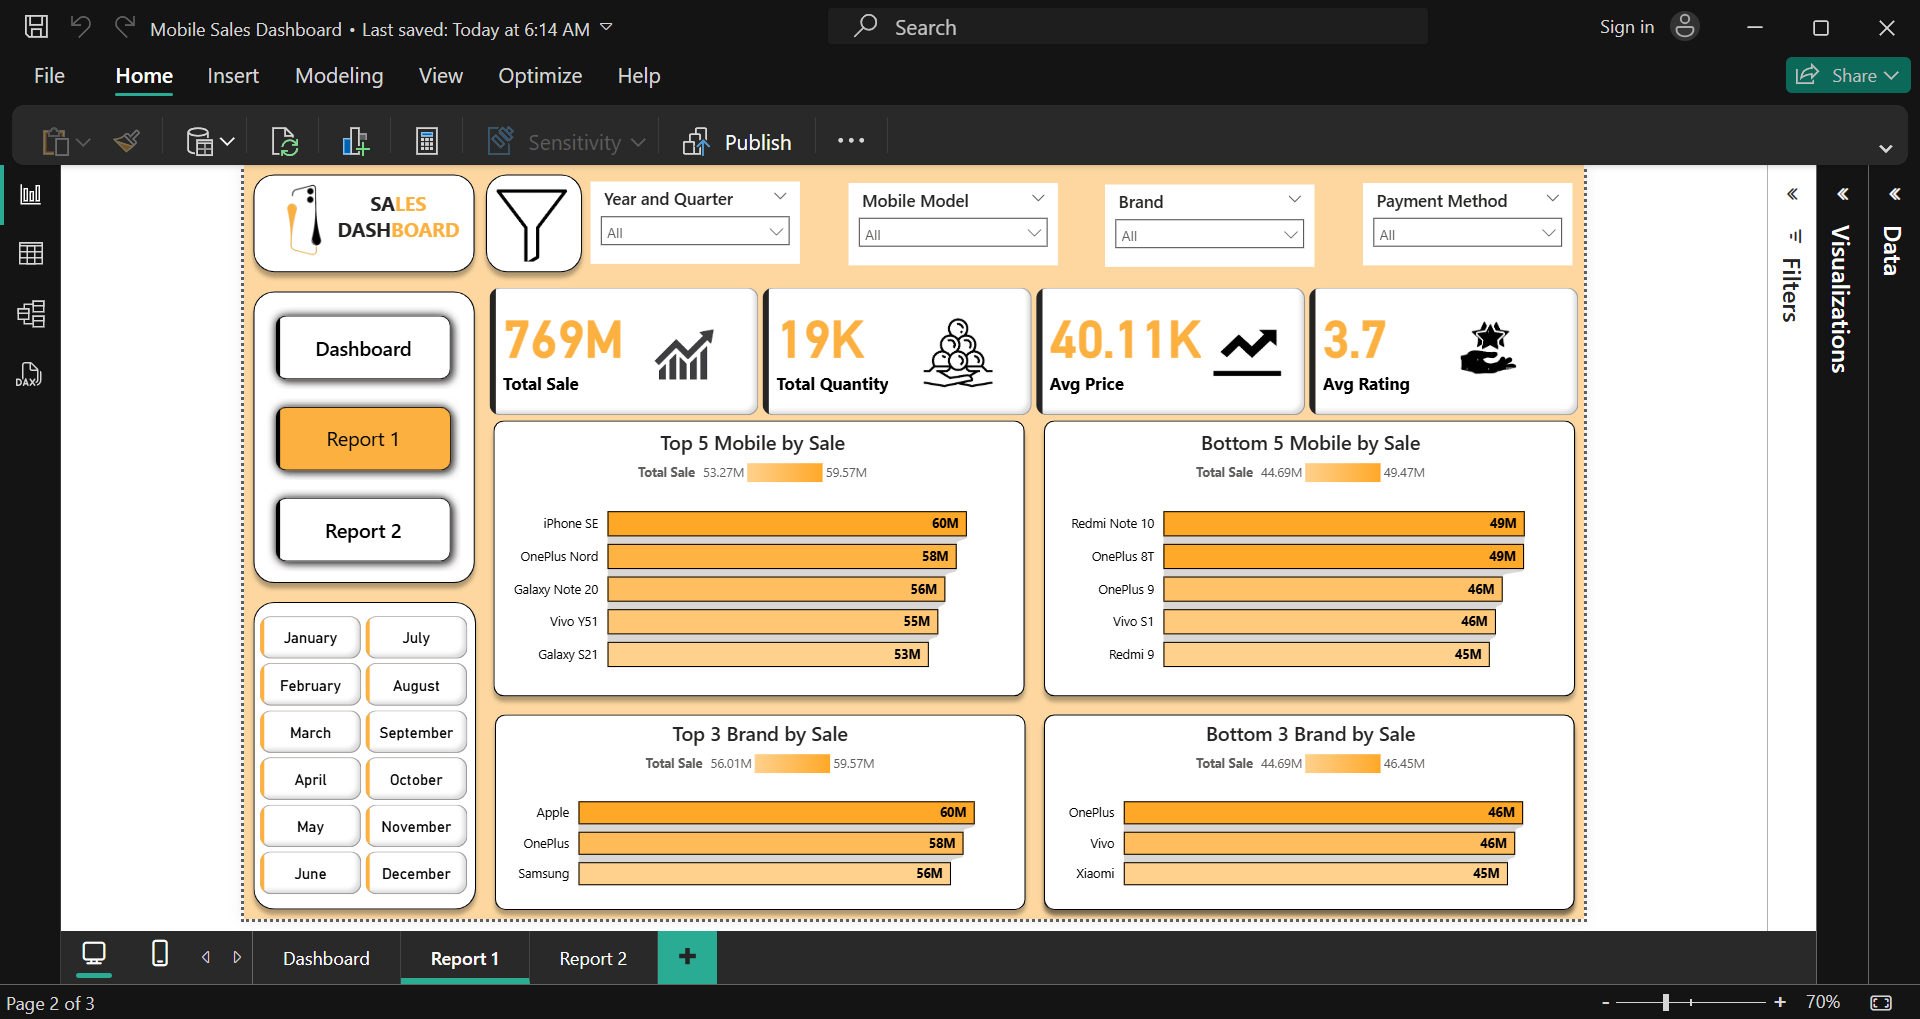

Layout of this report page (visuals, bound fields, positions):
{"tool":"powerbi","page":{"name":"Report 1","canvas":[1280,720],"ordinal":1},"visuals":[{"type":"shape","box":[0,0,229.5,111.5],"z":0},{"type":"slicer","fields":{"Values":["Sales Data.Mobile Model"]},"box":[577,18,200,78.7],"z":0,"group":"g1"},{"type":"slicer","fields":{"Values":["Sales Data.Brand"]},"box":[822.9,19.7,200,78.7],"z":1000,"group":"g1"},{"type":"shape","box":[229.3,234.2,525.4,281.4],"z":1000},{"type":"slicer","fields":{"Values":["Sales Data.Payment Method"]},"box":[1068.8,18,200,78.7],"z":2000,"group":"g1"},{"type":"shape","box":[0,111.5,229.5,296.7],"z":2000},{"type":"slicer","fields":{"Values":["Custom Calendar.Date.Variation.Date Hierarchy.Year","Custom Calendar.Date.Variation.Date Hierarchy.Quarter"]},"box":[331.1,16.4,200,78.7],"z":3000,"group":"g1"},{"type":"cardVisual","fields":{"Data":["Sales Data.Total Sale","Sales Data.Total Quantity","Sales Data.Avg Price","Sales Data.Avg Rating"]},"box":[229.5,111.5,1050.8,132.8],"z":3000},{"type":"image","box":[0,1.6,114.8,109.8],"z":4000},{"type":"image","box":[352.5,134.4,136.1,91.8],"z":5000},{"type":"image","box":[621.3,139.3,121.3,80.3],"z":6000},{"type":"image","box":[1118,127.9,139.3,104.9],"z":7000},{"type":"image","box":[891.8,139.3,131.1,80.3],"z":8000},{"type":"textbox","box":[63.9,18,165.6,73.8],"z":9000},{"type":"group","id":"g1","title":"Group 1","box":[331.1,16.4,937.7,82],"z":10000},{"type":"shape","box":[221.3,0,109.8,111.5],"z":11000},{"type":"image","box":[219.7,13.1,111.5,93.4],"z":12000},{"type":"barChart","title":"Top 5 Mobile by Sale","fields":{"Y":["Sales Data.Total Sale"],"Category":["Sales Data.Mobile Model"]},"box":[245.6,252.1,481.5,245.6],"z":13000},{"type":"shape","box":[754.7,234.2,525.4,281.4],"z":14000},{"type":"barChart","title":"Bottom 5 Mobile by Sale","fields":{"Y":["Sales Data.Total Sale"],"Category":["Sales Data.Mobile Model"]},"box":[777.5,252.1,481.5,245.6],"z":15000},{"type":"shape","box":[231,515.6,525.4,204.9],"z":16000},{"type":"barChart","title":"Top 3 Brand by Sale","fields":{"Y":["Sales Data.Total Sale"],"Category":["Sales Data.Brand"]},"box":[252.1,530.3,481.5,175.7],"z":17000},{"type":"shape","box":[754.7,515.6,525.4,204.9],"z":18000},{"type":"shape","box":[754.6,515.1,525.4,204.9],"z":19000},{"type":"barChart","title":"Bottom 3 Brand by Sale","fields":{"Y":["Sales Data.Total Sale"],"Category":["Sales Data.Brand"]},"box":[777.5,530.3,481.5,175.7],"z":20000},{"type":"shape","box":[0,408.2,230.6,311.8],"z":21000},{"type":"advancedSlicerVisual","fields":{"Values":["Custom Calendar.Date.Variation.Date Hierarchy.Month"]},"box":[10,425,208.3,280],"z":22000},{"type":"pageNavigator","box":[21.1,135,185.4,255.4],"z":23000}]}

Visuals, with their boxes on the page's 1280x720 design canvas (x1, y1, x2, y2). These are canvas units, not pixel positions in the 1920x1019 screenshot, which may show the page scaled, cropped or inside an application window:
shape: region(0, 0, 230, 112)
slicer - Sales Data.Mobile Model: region(577, 18, 777, 97)
slicer - Sales Data.Brand: region(823, 20, 1023, 98)
shape: region(229, 234, 755, 516)
slicer - Sales Data.Payment Method: region(1069, 18, 1269, 97)
shape: region(0, 112, 230, 408)
slicer - Custom Calendar.Date.Variation.Date Hierarchy.Year x Custom Calendar.Date.Variation.Date Hierarchy.Quarter: region(331, 16, 531, 95)
cardVisual - Sales Data.Total Sale x Sales Data.Total Quantity: region(230, 112, 1280, 244)
image: region(0, 2, 115, 111)
image: region(352, 134, 489, 226)
image: region(621, 139, 743, 220)
image: region(1118, 128, 1257, 233)
image: region(892, 139, 1023, 220)
textbox: region(64, 18, 230, 92)
"Group 1" group: region(331, 16, 1269, 98)
shape: region(221, 0, 331, 112)
image: region(220, 13, 331, 106)
"Top 5 Mobile by Sale" barChart: region(246, 252, 727, 498)
shape: region(755, 234, 1280, 516)
"Bottom 5 Mobile by Sale" barChart: region(778, 252, 1259, 498)
shape: region(231, 516, 756, 720)
"Top 3 Brand by Sale" barChart: region(252, 530, 734, 706)
shape: region(755, 516, 1280, 720)
shape: region(755, 515, 1280, 720)
"Bottom 3 Brand by Sale" barChart: region(778, 530, 1259, 706)
shape: region(0, 408, 231, 720)
advancedSlicerVisual - Custom Calendar.Date.Variation.Date Hierarchy.Month: region(10, 425, 218, 705)
pageNavigator: region(21, 135, 206, 390)
